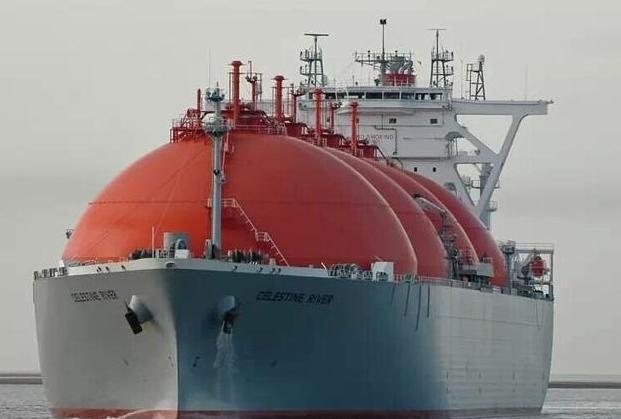Cargoship: (30, 17, 575, 413)
